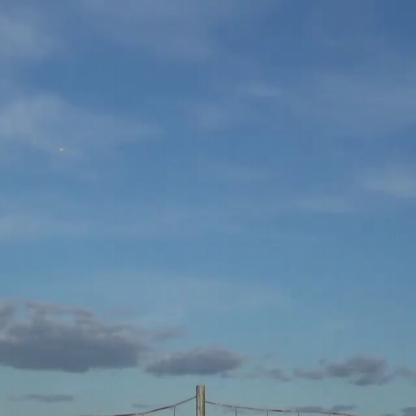CIV_Plane: (55, 140, 70, 156)
